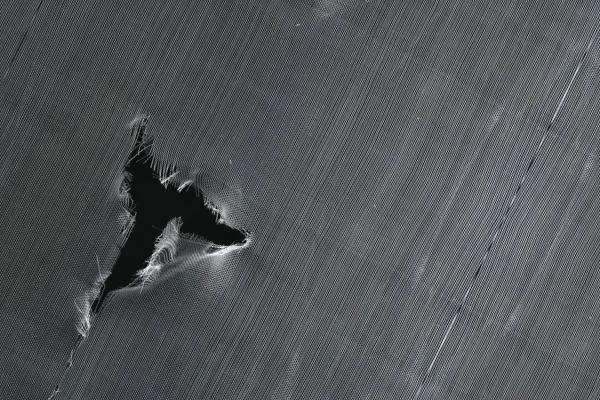hole: (87, 110, 256, 325)
